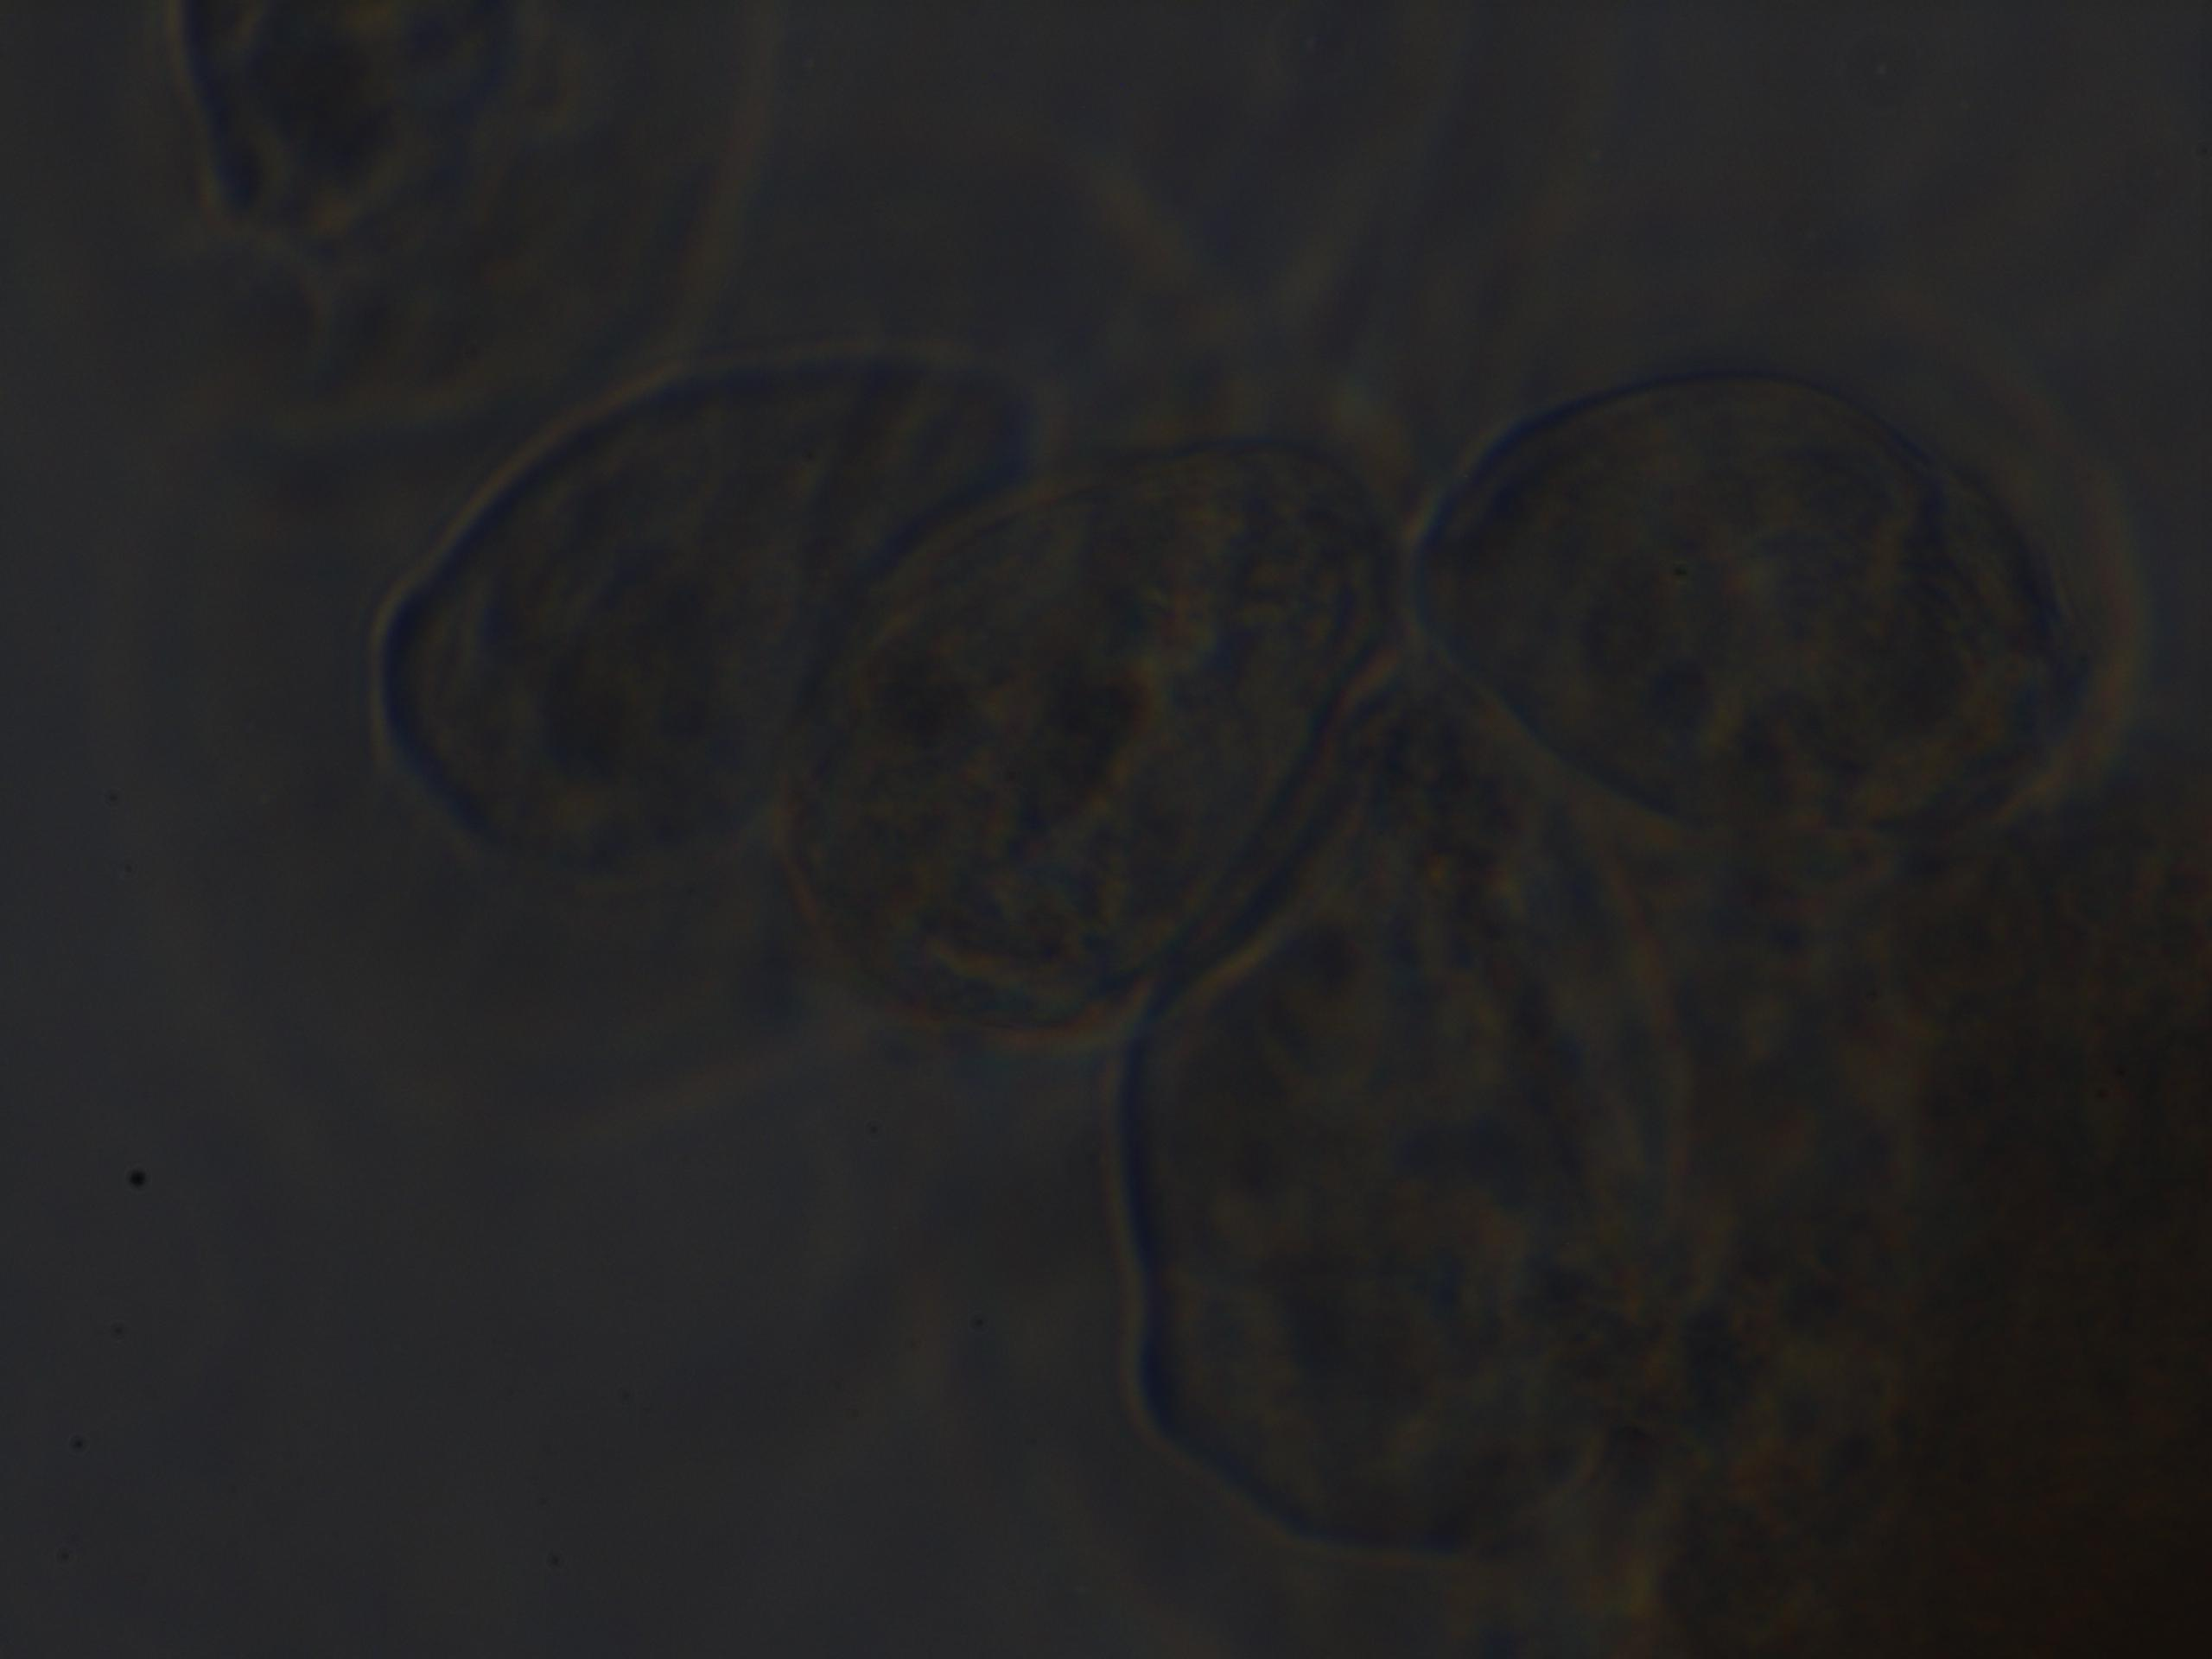protozoa: (1092, 620, 1756, 1558), (350, 284, 1049, 932), (782, 364, 1423, 1063), (1414, 289, 2132, 868)
